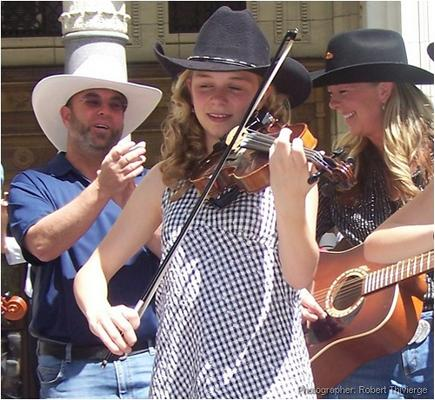person: (73, 7, 322, 400)
